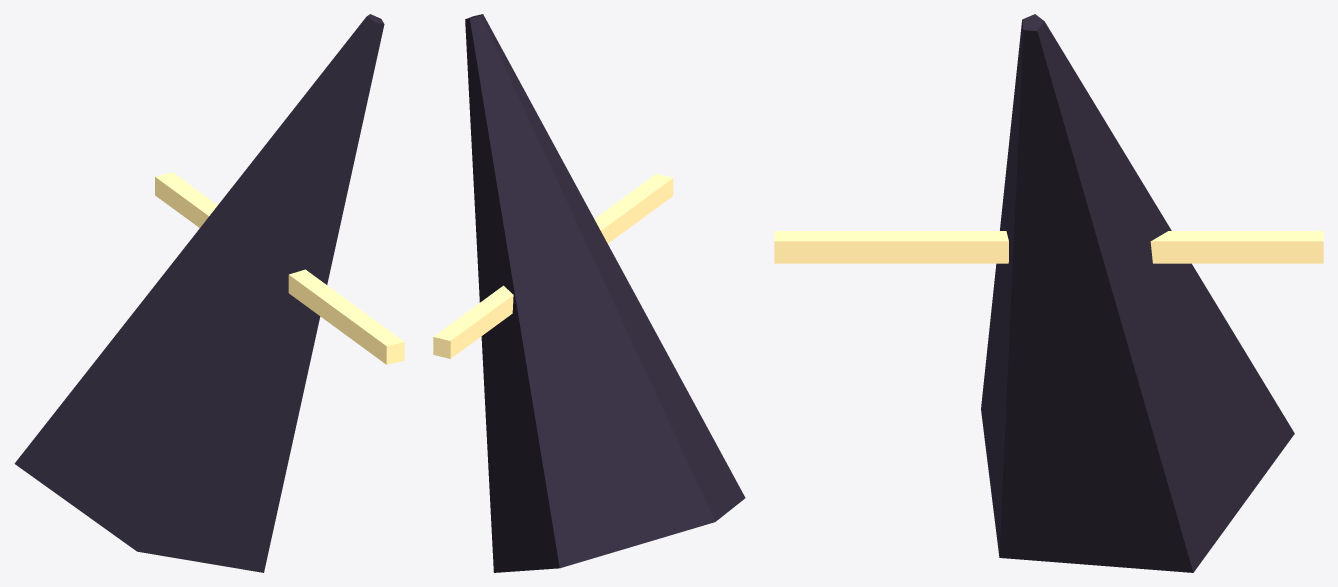
The model's file is obsidian_shard.glb.
3 renders of one model, left to right at view 1: azimuth 30°, elevation 25°; view 2: azimuth 150°, elevation 25°; view 3: azimuth 270°, elevation 25°, orthographic. The views are drawn at different scales.
Visible parts, largest first — view 1: shard, edge; view 2: shard, edge; view 3: shard, edge.
Part boxes in pixels (x1,y1,x2,y2): shard: (14, 14, 384, 572); edge: (155, 172, 404, 364); shard: (465, 14, 745, 572); edge: (433, 173, 673, 358); shard: (981, 14, 1294, 572); edge: (774, 231, 1323, 263).
Bounding box in the file's own units: 0.7028 × 1.11 × 0.9.
